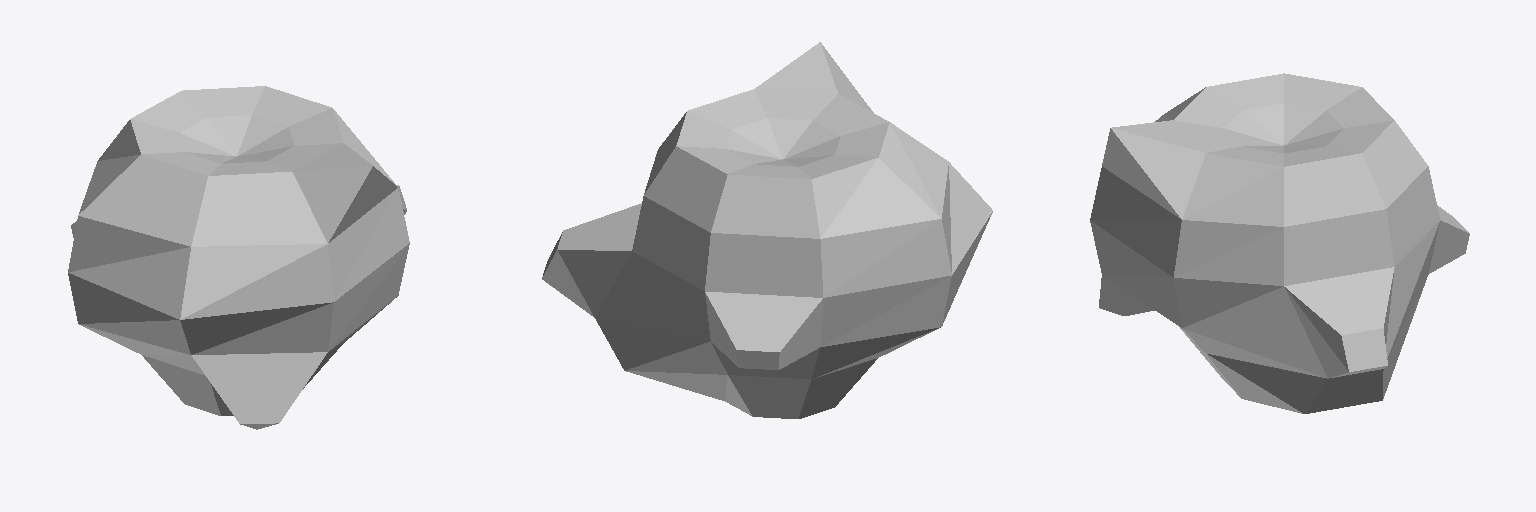
The model's file is asteroid3.obj.
The picture shows the model from 3 angles: view 1: azimuth 30°, elevation 25°; view 2: azimuth 150°, elevation 25°; view 3: azimuth 270°, elevation 25°; orthographic projection.
Bounding box in the file's own units: 2.75 × 2.04 × 2.43.